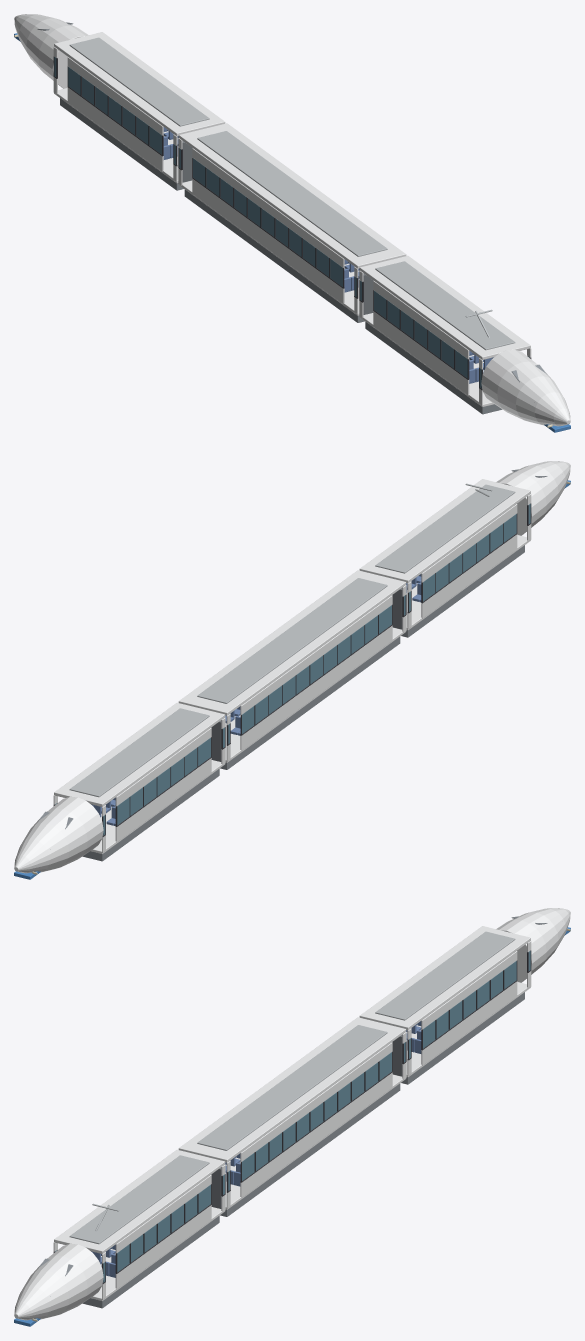
Rendered from Ktx.fbx.
3 renders of one model, top to bottom at view 1: azimuth 30°, elevation 25°; view 2: azimuth 150°, elevation 25°; view 3: azimuth 330°, elevation 25°, orthographic.
Parts seen in each view (by area): view 1: Ktx; view 2: Ktx; view 3: Ktx.
Part boxes in pixels (<box>): Ktx: <box>14,14,570,432</box>; Ktx: <box>14,461,570,879</box>; Ktx: <box>14,908,570,1326</box>.
Size of the model in its own units: 310 by 477 by 5800.
